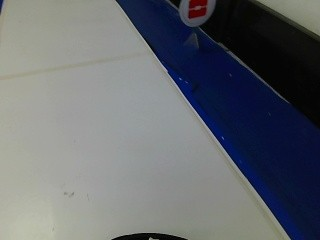company: (176, 0, 215, 27)
